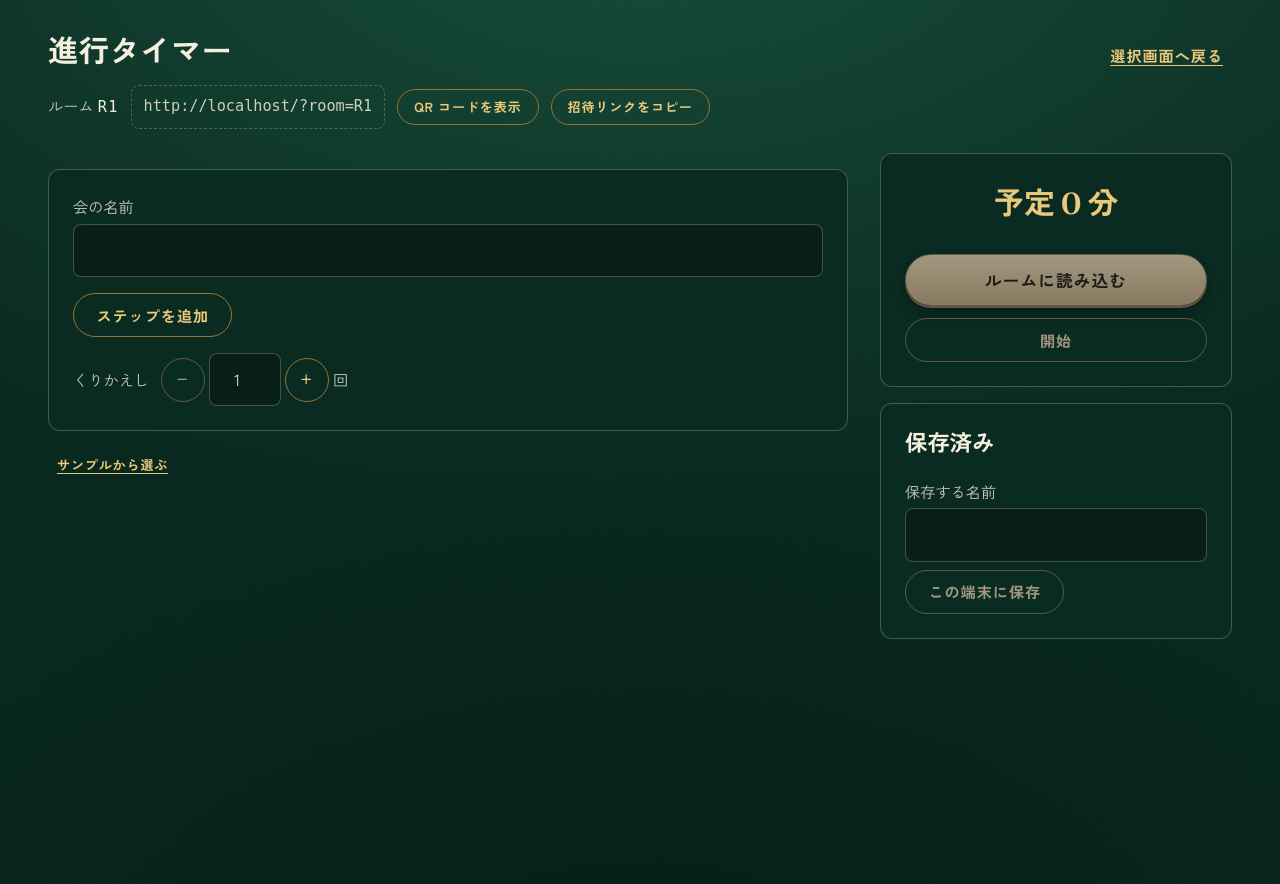
Test: 組む画面 › Given 回数が範囲外（31） / When 合計の行を見る / Then 1 回分の「予定 n 分」を出す
This screenshot has width=1280, height=884.
Click the button "サンプルから選ぶ" at (113, 465), box [48, 447, 177, 483]
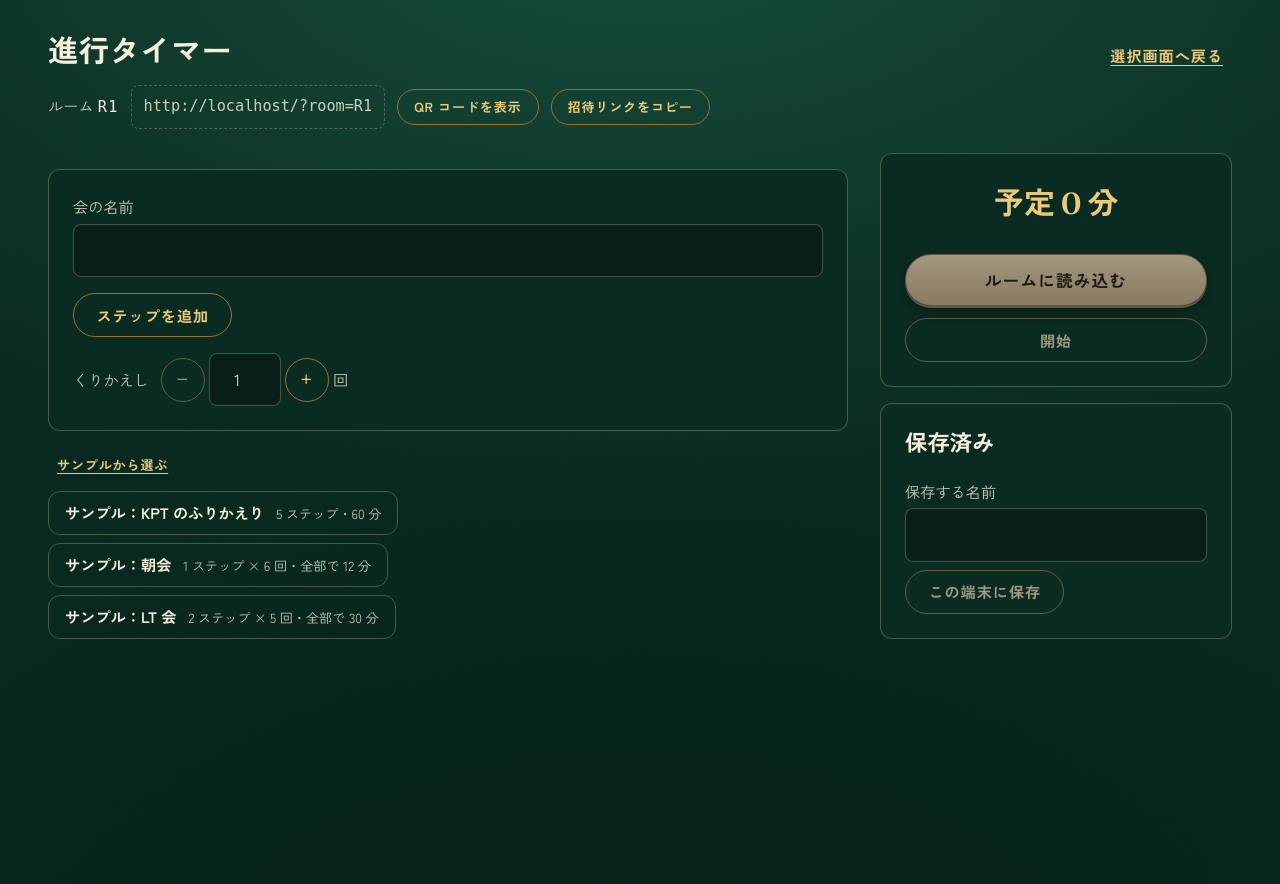
Click the button "サンプル：朝会 1 ステップ × 6 回・全部で 12 分" at (218, 565), box [48, 543, 388, 587]
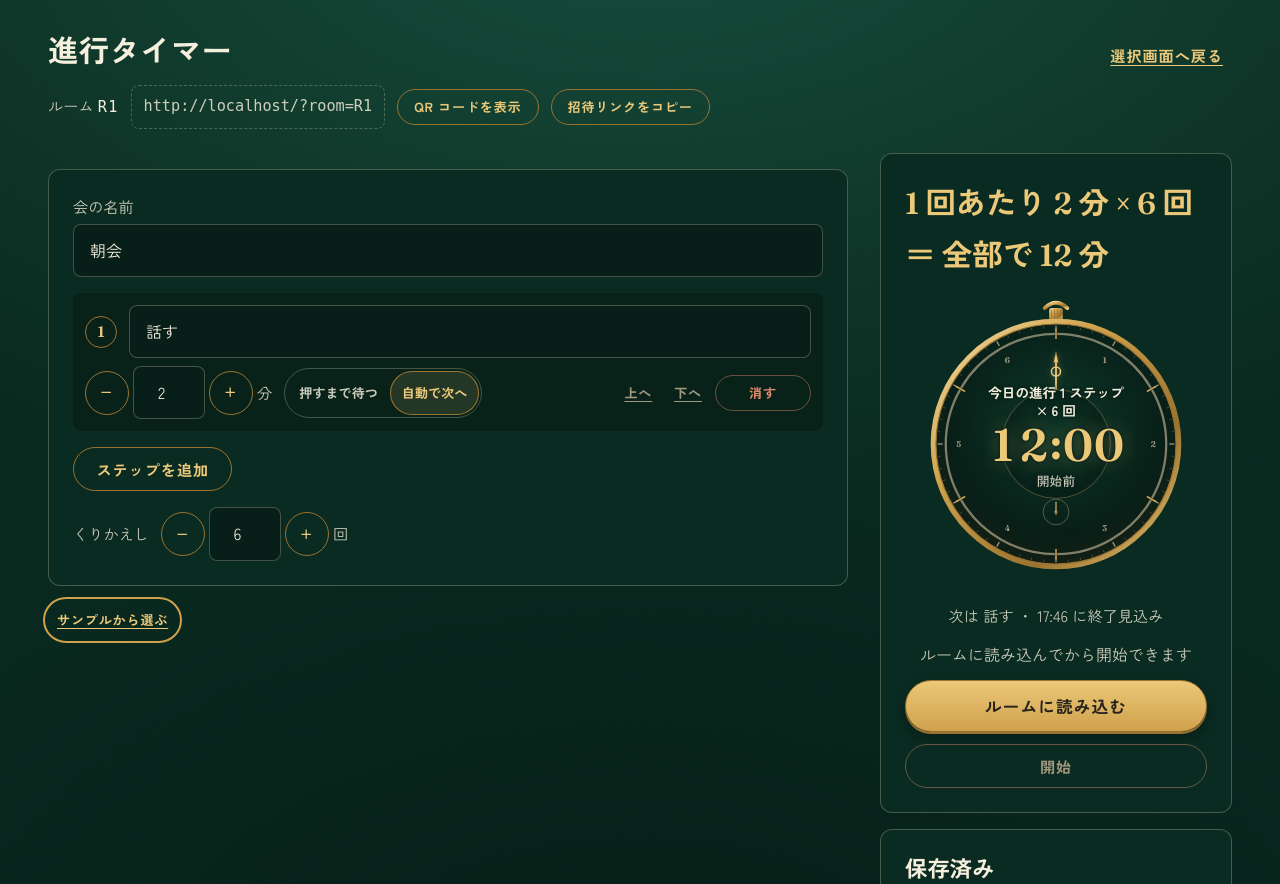
Replace the text in the number field labelled "くりかえし" with "31" at (245, 534), box [209, 507, 281, 561]
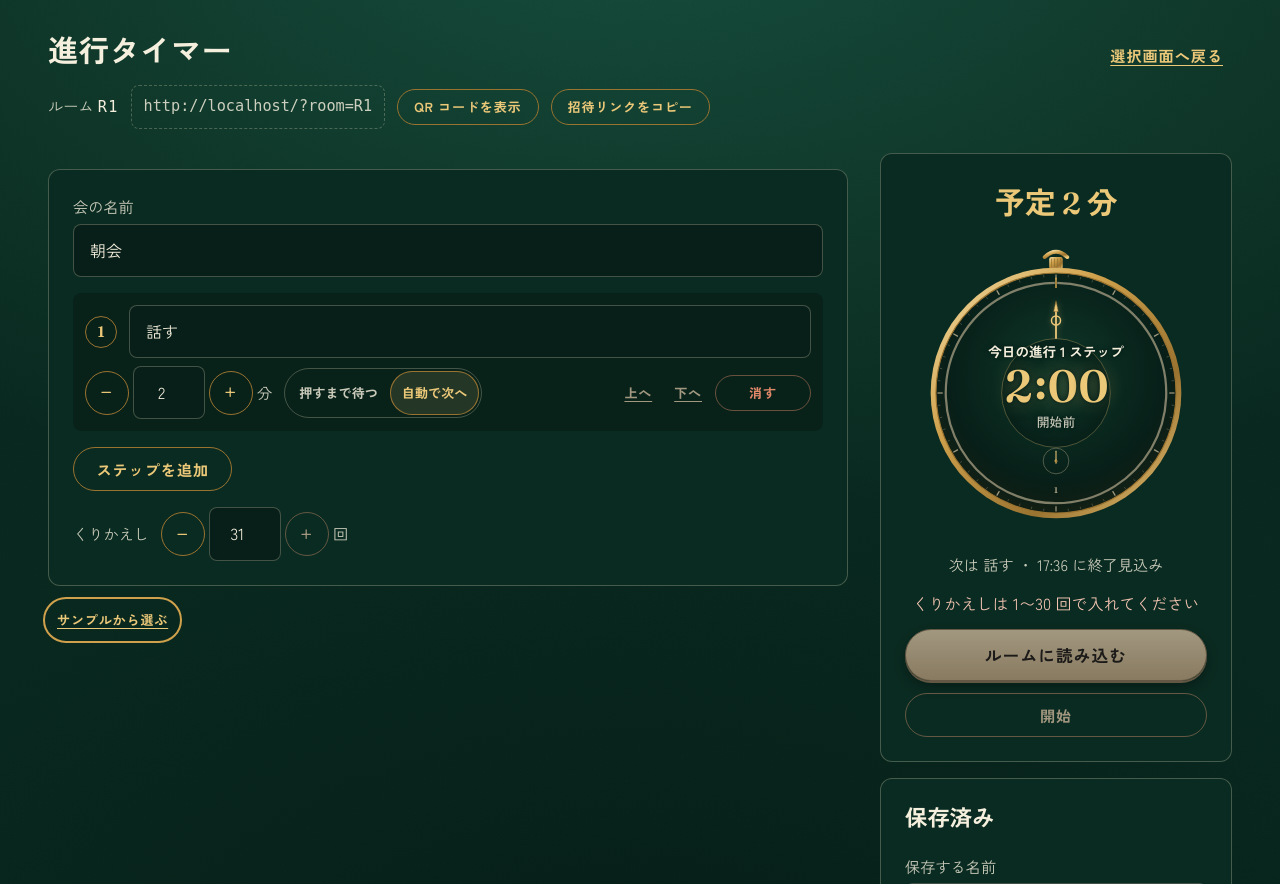
Result: the text "1 回あたり" is gone
